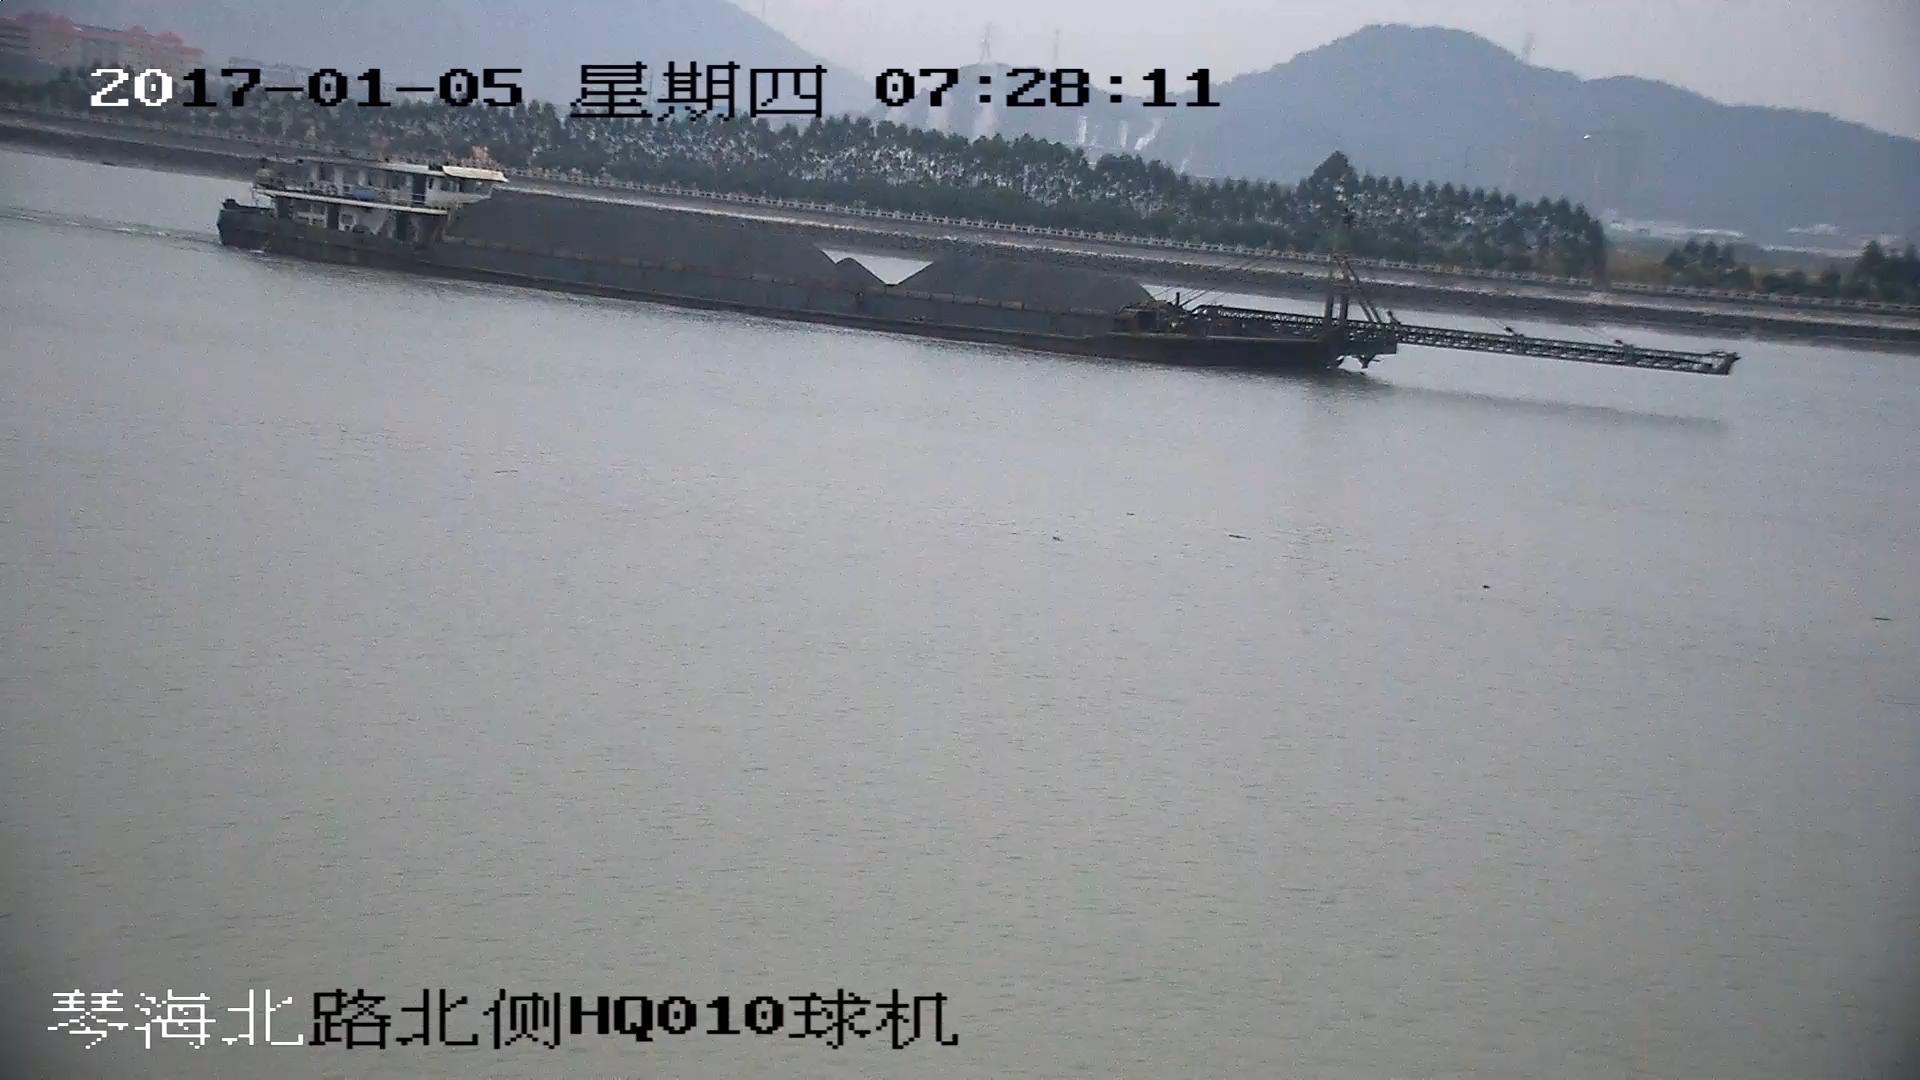ore carrier: (214, 153, 1738, 390)
